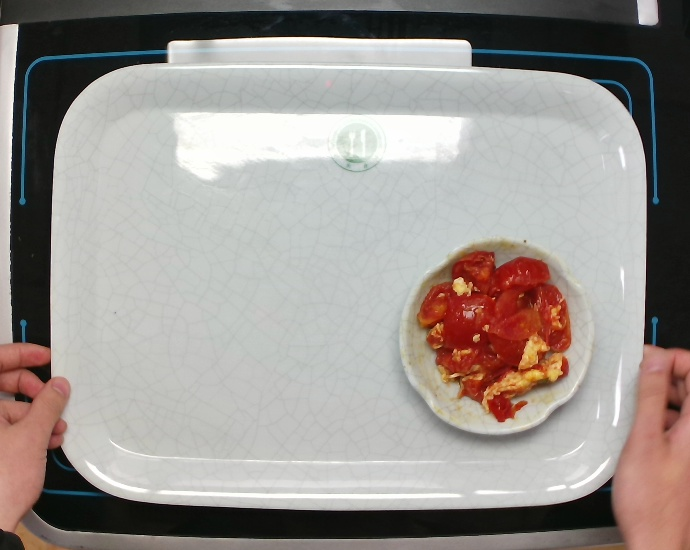JYsf-Ao_Yuan_Wan: (389, 232, 601, 445)
